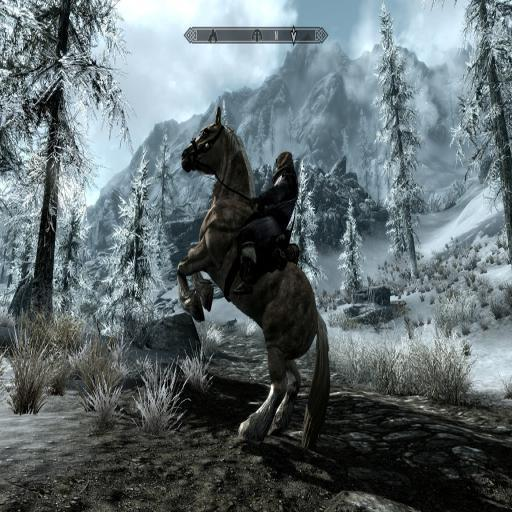Horse: (174, 104, 332, 452)
